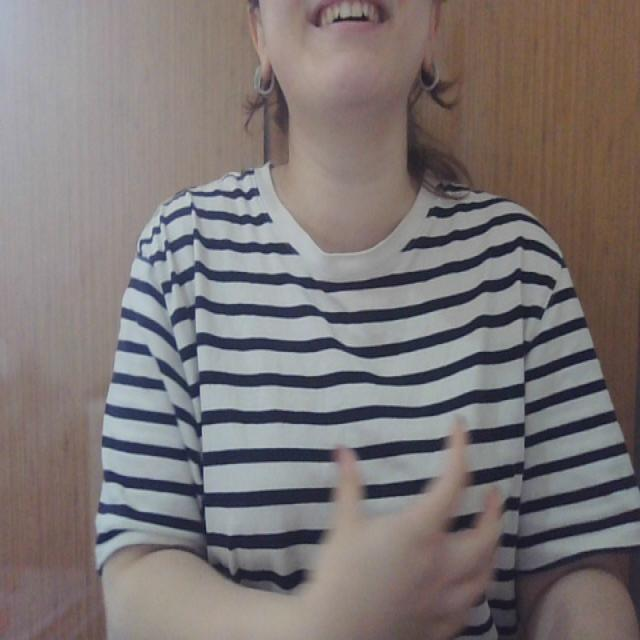Anne: (194, 397, 534, 640)
